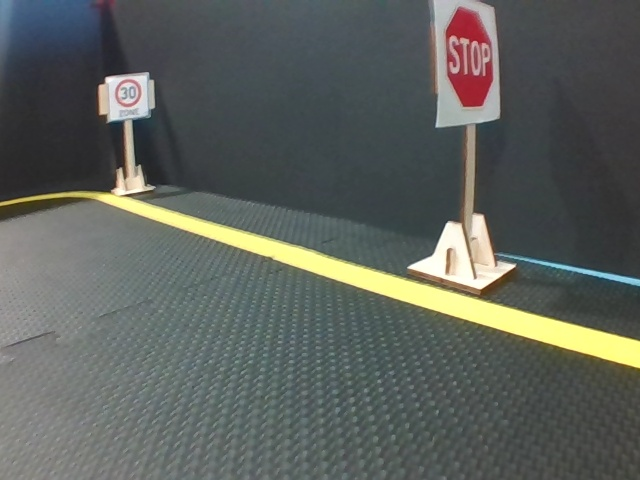30: (107, 75, 149, 120)
stop: (433, 1, 501, 121)
